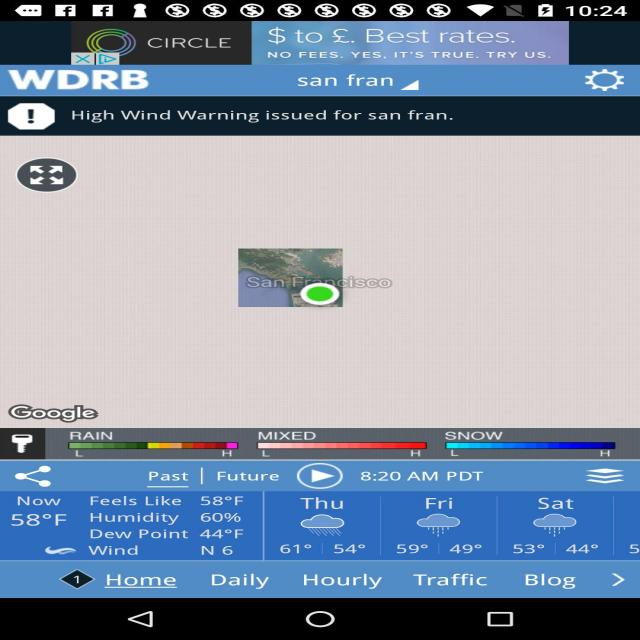button: (250, 70, 430, 92), (0, 461, 80, 488), (282, 463, 354, 488), (572, 465, 640, 488), (562, 72, 640, 92), (604, 562, 640, 596)
icon: (18, 155, 88, 197), (5, 462, 74, 494), (3, 102, 64, 134), (291, 459, 347, 492), (578, 66, 638, 95), (580, 461, 640, 488), (0, 430, 40, 458), (607, 561, 640, 594)
image: (0, 130, 631, 425), (0, 65, 629, 129), (7, 429, 640, 457), (388, 493, 500, 554), (505, 490, 607, 553), (267, 497, 380, 553)
text: (15, 493, 640, 594), (263, 21, 560, 68), (74, 106, 483, 137), (0, 65, 400, 92), (147, 33, 246, 56)
